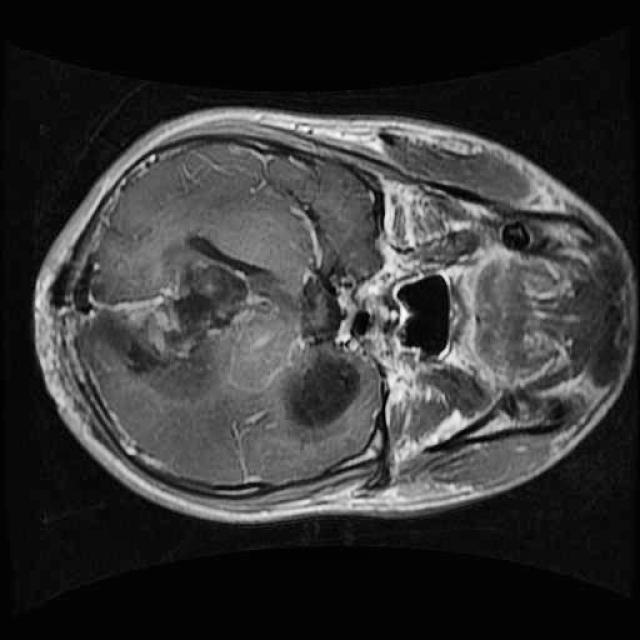Tumor: (74, 210, 310, 436)
